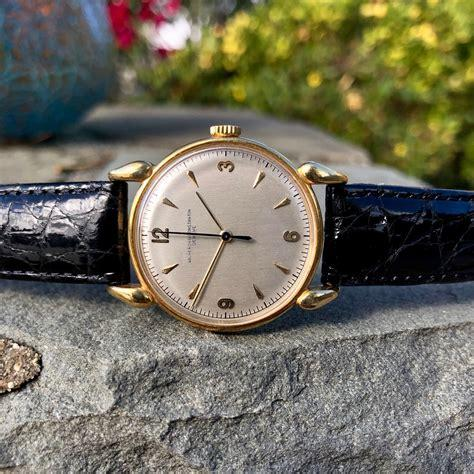Watch: (0, 126, 473, 335)
